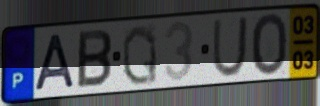3: (163, 19, 199, 85)
A: (33, 32, 77, 94)
B: (75, 28, 114, 91)
O: (250, 11, 290, 79)
Q: (121, 23, 160, 88)
U: (210, 15, 250, 80)
